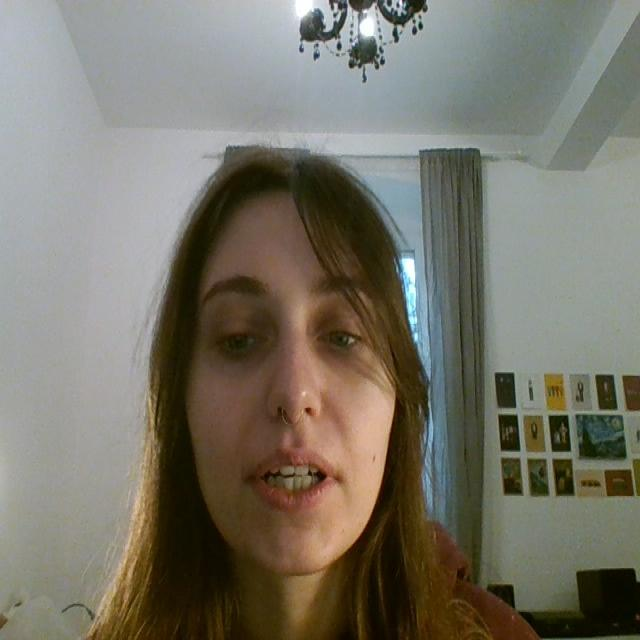eye: (305, 319, 376, 364), (202, 322, 274, 364)
gaze: (329, 328, 350, 348), (228, 330, 248, 350)
